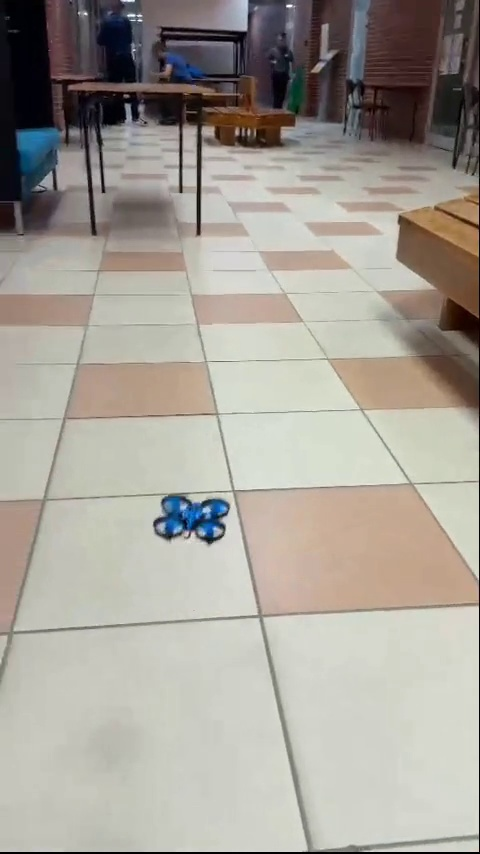drone: (152, 491, 234, 542)
no vest: (98, 3, 149, 133), (255, 27, 298, 117), (152, 36, 201, 85)
